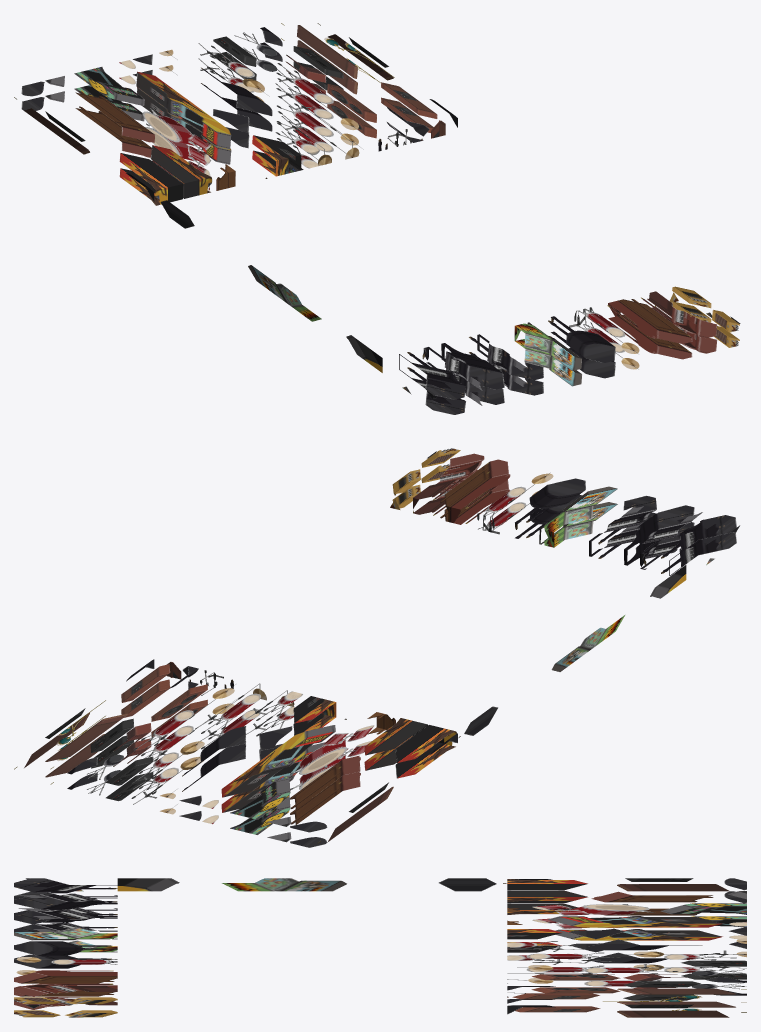
3 renders of one model, top to bottom at view 1: azimuth 30°, elevation 25°; view 2: azimuth 150°, elevation 25°; view 3: azimuth 270°, elevation 25°, orthographic. The views are drawn at different scales.
Size of the model in its own units: 1 by 0.0484 by 2.45.
